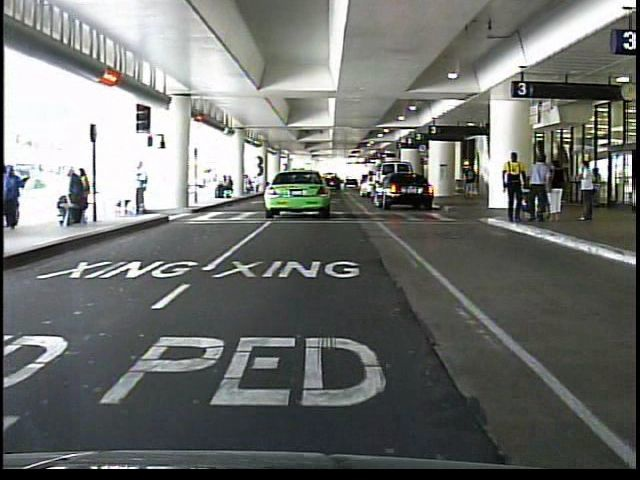person: (496, 150, 528, 230), (571, 156, 602, 228), (6, 163, 39, 228), (123, 159, 154, 223), (525, 150, 549, 227), (547, 158, 563, 226), (460, 159, 482, 204)
